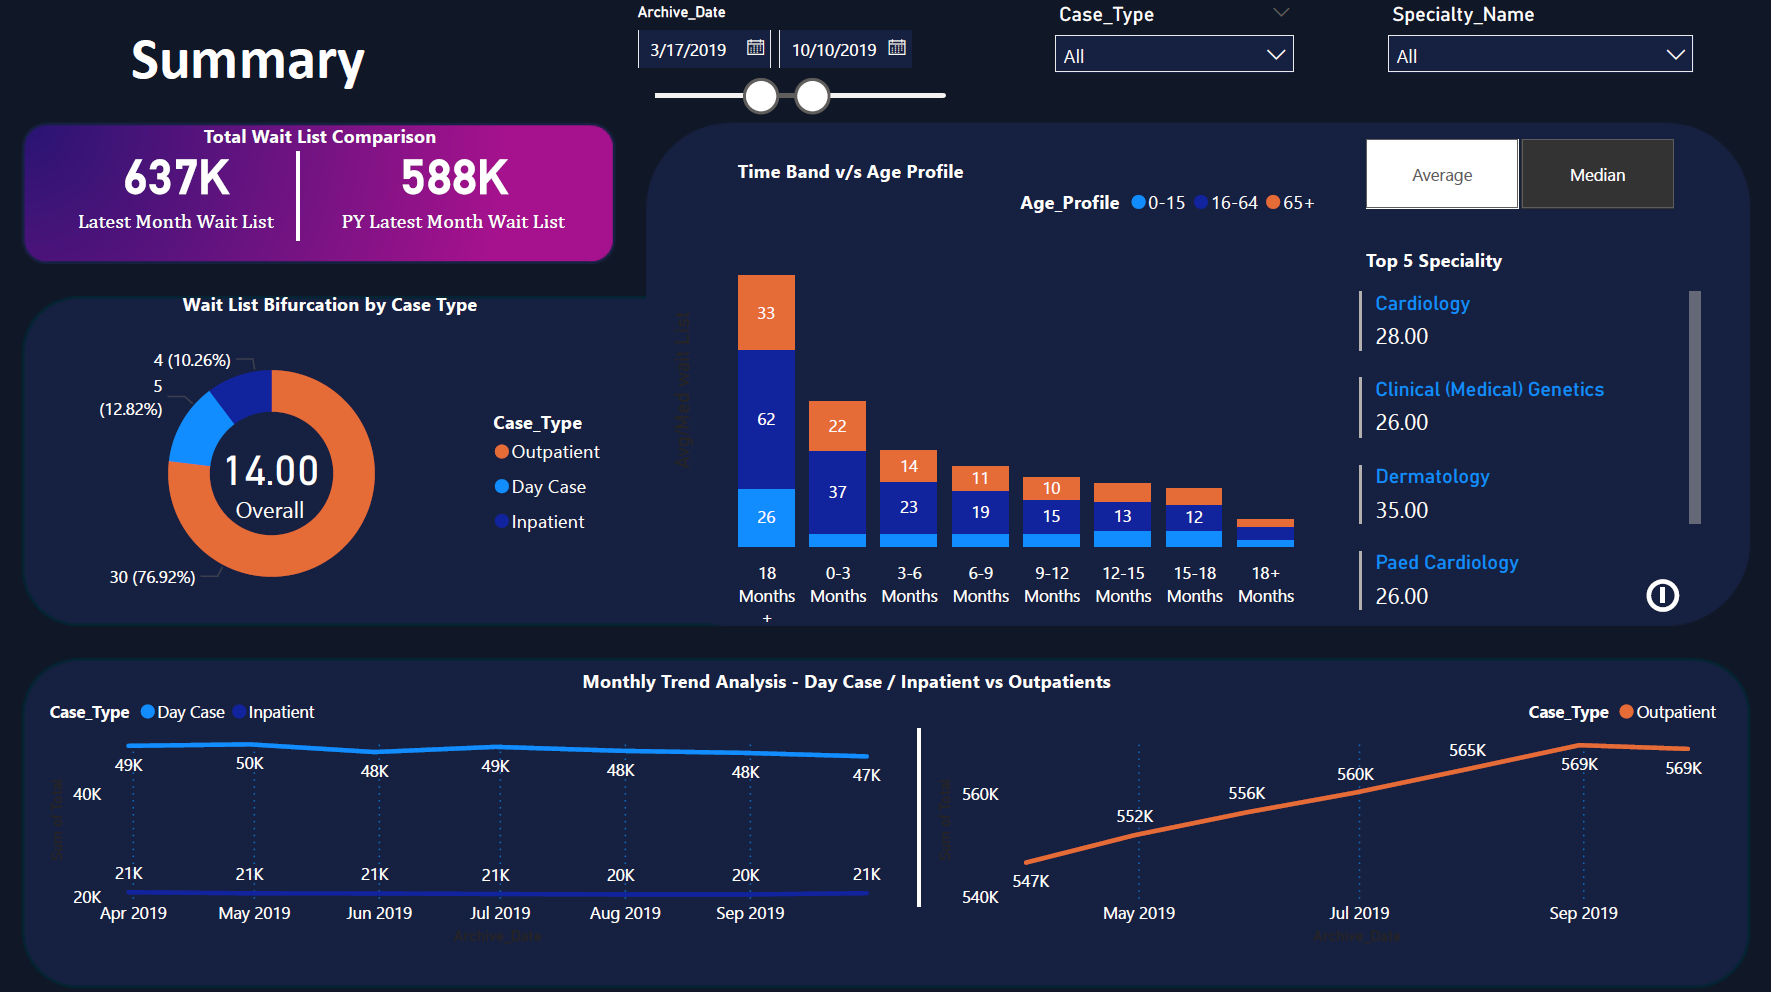

This screenshot's page, from the dashboard's own definition file:
{"tool":"powerbi","page":{"name":"Summary","canvas":[1280,720],"ordinal":0},"visuals":[{"type":"card","fields":{"Values":["All_Data.Latest Month Wait List"]},"box":[32,80,192,112],"z":0},{"type":"card","fields":{"Values":["All_Data.PY Latest Month Wait List"]},"box":[224,80,208,112],"z":1000},{"type":"slicer","fields":{"Values":["Calculation Method.Calc Method"]},"box":[960,96,272,64],"z":2000},{"type":"donutChart","fields":{"Category":["All_Data.Case_Type"],"Y":["All_Data.Avg/Med wait List"]},"box":[32,240,416,208],"z":3000},{"type":"columnChart","fields":{"Category":["All_Data.Time_Bands"],"Y":["All_Data.Avg/Med wait List"],"Series":["All_Data.Age_Profile"]},"box":[480,128,480,336],"z":4000},{"type":"multiRowCard","fields":{"Values":["All_Data.Specialty_Name","All_Data.Avg/Med wait List"]},"box":[976,208,256,240],"z":5000},{"type":"card","fields":{"Values":["All_Data.Left Trendcard"]},"box":[128,512,448,160],"z":6000},{"type":"lineChart","fields":{"Y":["Sum(All_Data.Total)"],"Category":["All_Data.Archive_Date"],"Series":["All_Data.Case_Type"]},"box":[32,496,624,192],"z":7000},{"type":"card","fields":{"Values":["All_Data.Right TrendCard"]},"box":[704,496,448,160],"z":7500},{"type":"lineChart","fields":{"Y":["Sum(All_Data.Total)"],"Category":["All_Data.Archive_Date"],"Series":["All_Data.Case_Type"]},"box":[672,496,576,192],"z":8000},{"type":"slicer","fields":{"Values":["All_Data.Archive_Date"]},"box":[448,0,256,96],"z":9000},{"type":"slicer","fields":{"Values":["All_Data.Case_Type"]},"box":[752,0,192,96],"z":10000},{"type":"slicer","fields":{"Values":["All_Data.Specialty_Name"]},"box":[992,0,240,96],"z":11000},{"type":"textbox","box":[32,13,296,80],"z":12000},{"type":"shape","box":[80,112,272,64],"z":13000},{"type":"shape","box":[528,528,272,128],"z":14000},{"type":"textbox","box":[416,480,416,32],"z":15000},{"type":"textbox","box":[80,87,304,32],"z":16000},{"type":"textbox","box":[528,112,176,32],"z":17000},{"type":"textbox","box":[128,208,224,48],"z":18000},{"type":"textbox","box":[981,176,240,32],"z":19000},{"type":"cardVisual","fields":{"Data":["All_Data.Avg/Med wait List"]},"box":[124,288,144,128],"z":20000},{"type":"actionButton","box":[1184,416,96,32],"z":20001}]}

Visuals, with their boxes in screenshot pixels (x1, y1, x2, y2), scaled from the page's 1280x720 canvas onto the 1771x992 screenshot:
card - All_Data.Latest Month Wait List: locate(44, 110, 310, 265)
card - All_Data.PY Latest Month Wait List: locate(310, 110, 598, 265)
slicer - Calculation Method.Calc Method: locate(1328, 132, 1705, 220)
donutChart - All_Data.Case_Type x All_Data.Avg/Med wait List: locate(44, 331, 620, 617)
columnChart - All_Data.Time_Bands x All_Data.Avg/Med wait List: locate(664, 176, 1328, 639)
multiRowCard - All_Data.Specialty_Name x All_Data.Avg/Med wait List: locate(1350, 287, 1705, 617)
card - All_Data.Left Trendcard: locate(177, 705, 797, 926)
lineChart - Sum(All_Data.Total) x All_Data.Archive_Date: locate(44, 683, 908, 948)
card - All_Data.Right TrendCard: locate(974, 683, 1594, 904)
lineChart - Sum(All_Data.Total) x All_Data.Archive_Date: locate(930, 683, 1727, 948)
slicer - All_Data.Archive_Date: locate(620, 0, 974, 132)
slicer - All_Data.Case_Type: locate(1040, 0, 1306, 132)
slicer - All_Data.Specialty_Name: locate(1373, 0, 1705, 132)
textbox: locate(44, 18, 454, 128)
shape: locate(111, 154, 487, 242)
shape: locate(731, 727, 1107, 904)
textbox: locate(576, 661, 1151, 705)
textbox: locate(111, 120, 531, 164)
textbox: locate(731, 154, 974, 198)
textbox: locate(177, 287, 487, 353)
textbox: locate(1357, 242, 1689, 287)
cardVisual - All_Data.Avg/Med wait List: locate(172, 397, 371, 573)
actionButton: locate(1638, 573, 1770, 617)
